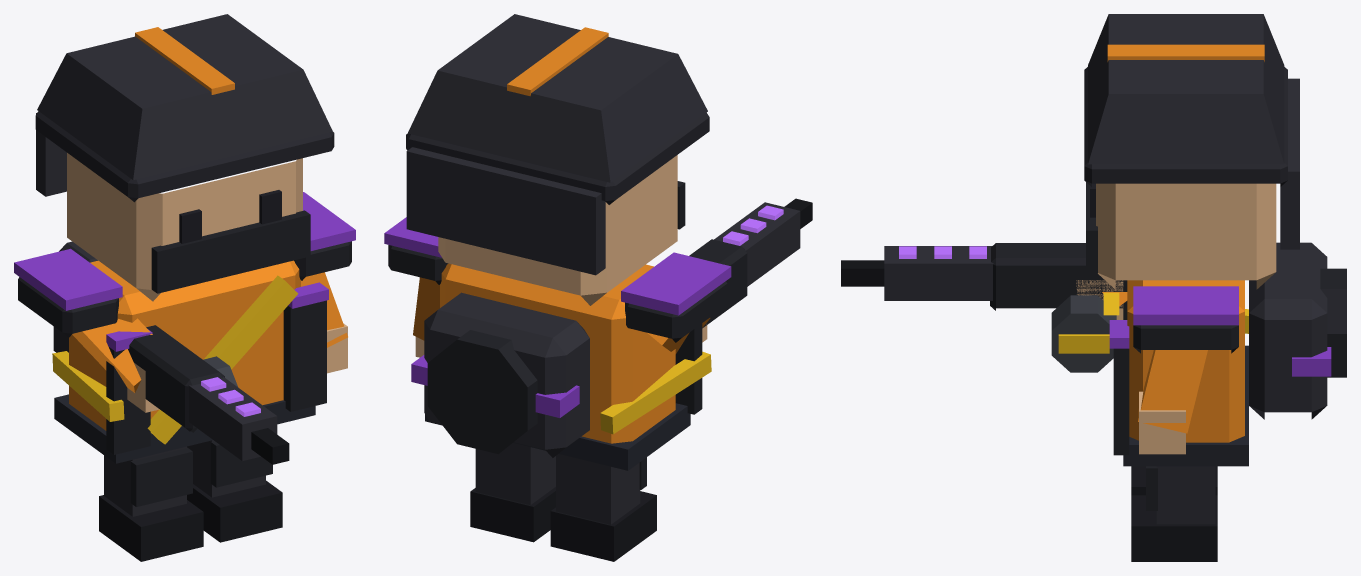
File: machine_gunner_rare.glb
The picture shows the model from 3 angles, left to right: view 1: azimuth 30°, elevation 25°; view 2: azimuth 150°, elevation 25°; view 3: azimuth 270°, elevation 25°; orthographic projection.
Visible parts, largest first — view 1: machine_gunner_rare_mesh; view 2: machine_gunner_rare_mesh; view 3: machine_gunner_rare_mesh.
Part boxes in pixels (x1,y1,x2,y2): machine_gunner_rare_mesh: [14, 14, 355, 561]; machine_gunner_rare_mesh: [384, 14, 812, 561]; machine_gunner_rare_mesh: [841, 14, 1346, 561].
Bounding box in the file's own units: 0.844 × 1.3 × 1.25.
2 materials, 2 textured.
